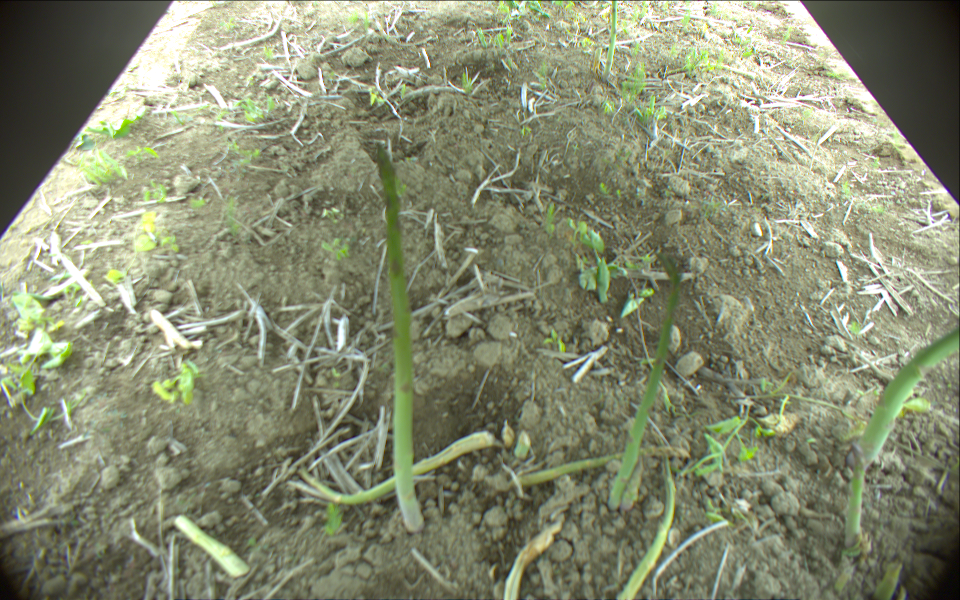aspa: (844, 320, 960, 548), (371, 141, 425, 530), (610, 248, 681, 512), (301, 432, 494, 505), (616, 450, 675, 600), (511, 445, 691, 487), (173, 515, 249, 577), (662, 63, 757, 80), (603, 1, 618, 73), (878, 559, 904, 600), (513, 430, 531, 461)
